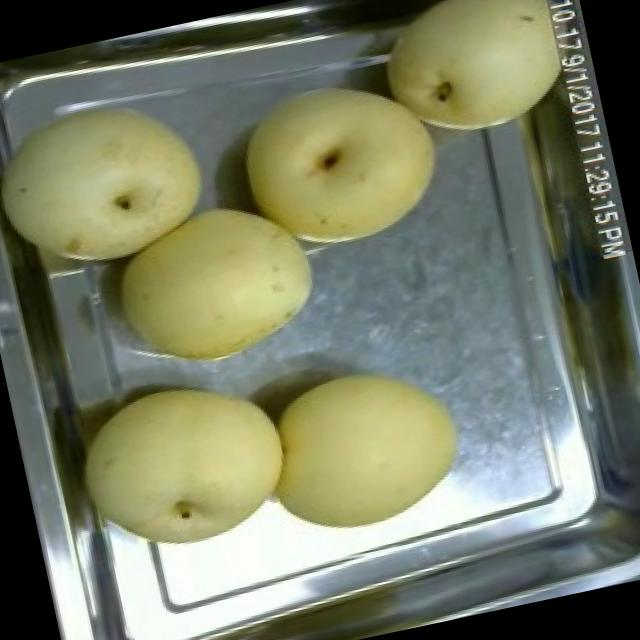Fruit: (57, 350, 314, 574), (222, 52, 459, 268), (96, 178, 338, 388), (247, 340, 483, 555), (0, 70, 226, 294), (359, 0, 598, 155)
